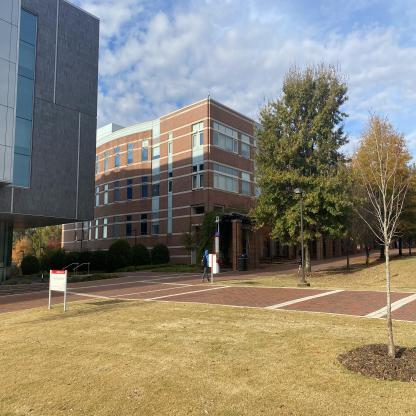EB-1: (63, 120, 406, 262)
